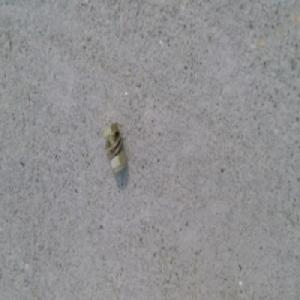BoltNutSet: (102, 123, 126, 174)
